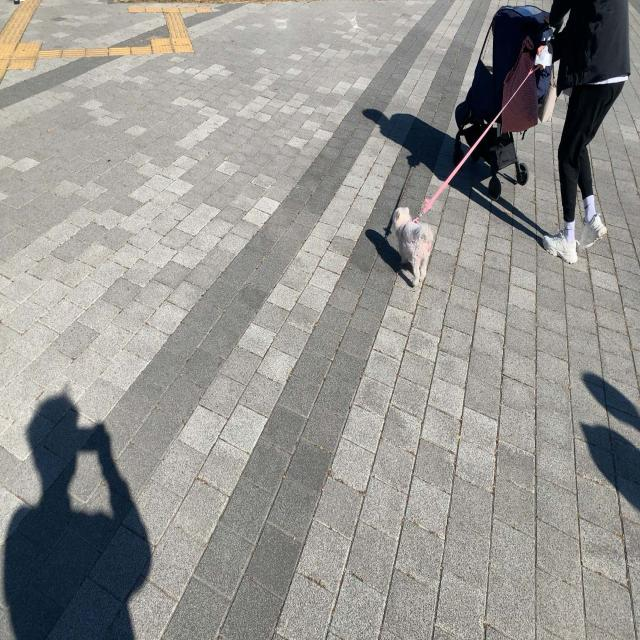Leashed_Dog: (392, 33, 575, 286)
